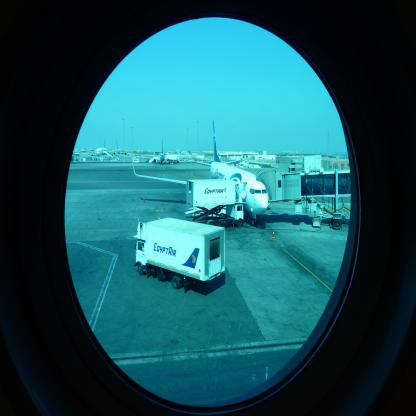Truck: (132, 217, 225, 291)
